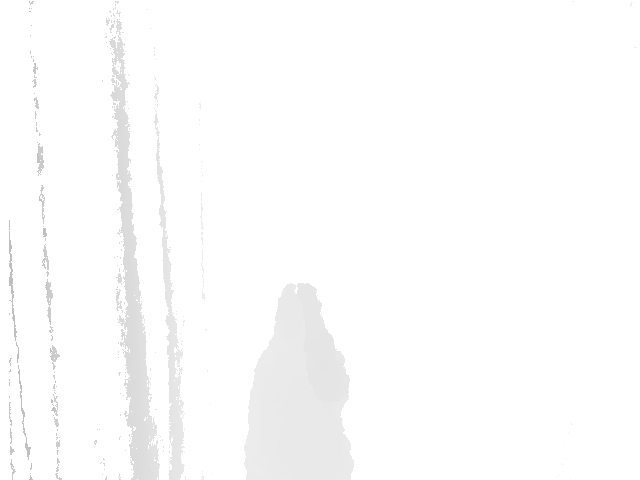head: (276, 286, 323, 354)
person: (241, 280, 356, 480)
